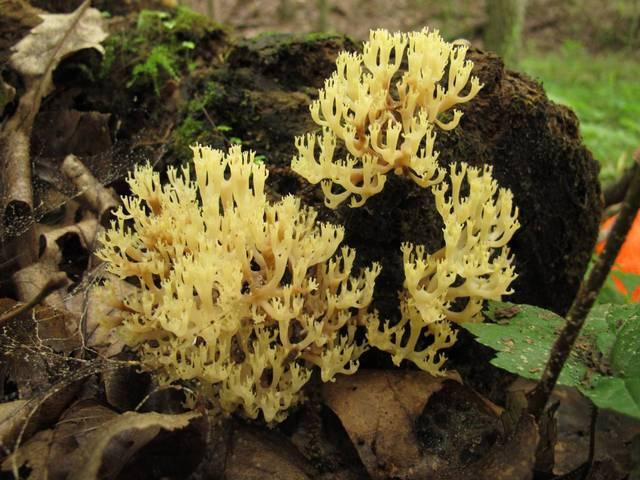Edible Mushroom: (91, 140, 381, 425), (400, 45, 605, 319), (289, 25, 485, 209)
